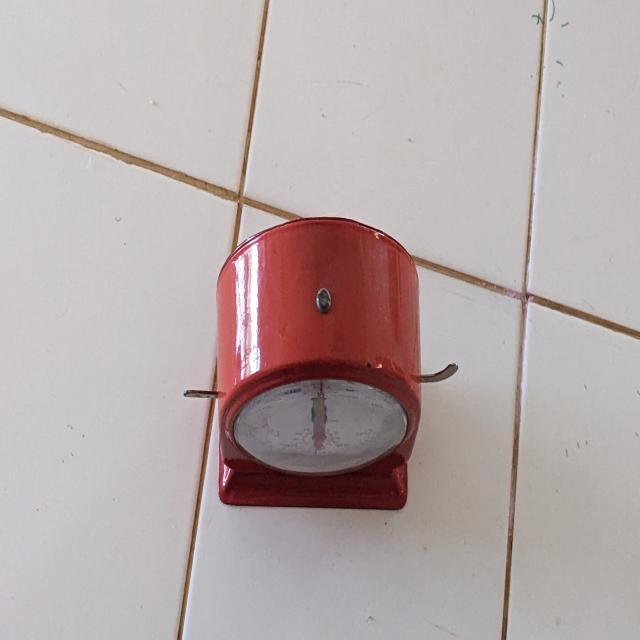Analog Stopwatch: (195, 216, 458, 533)
